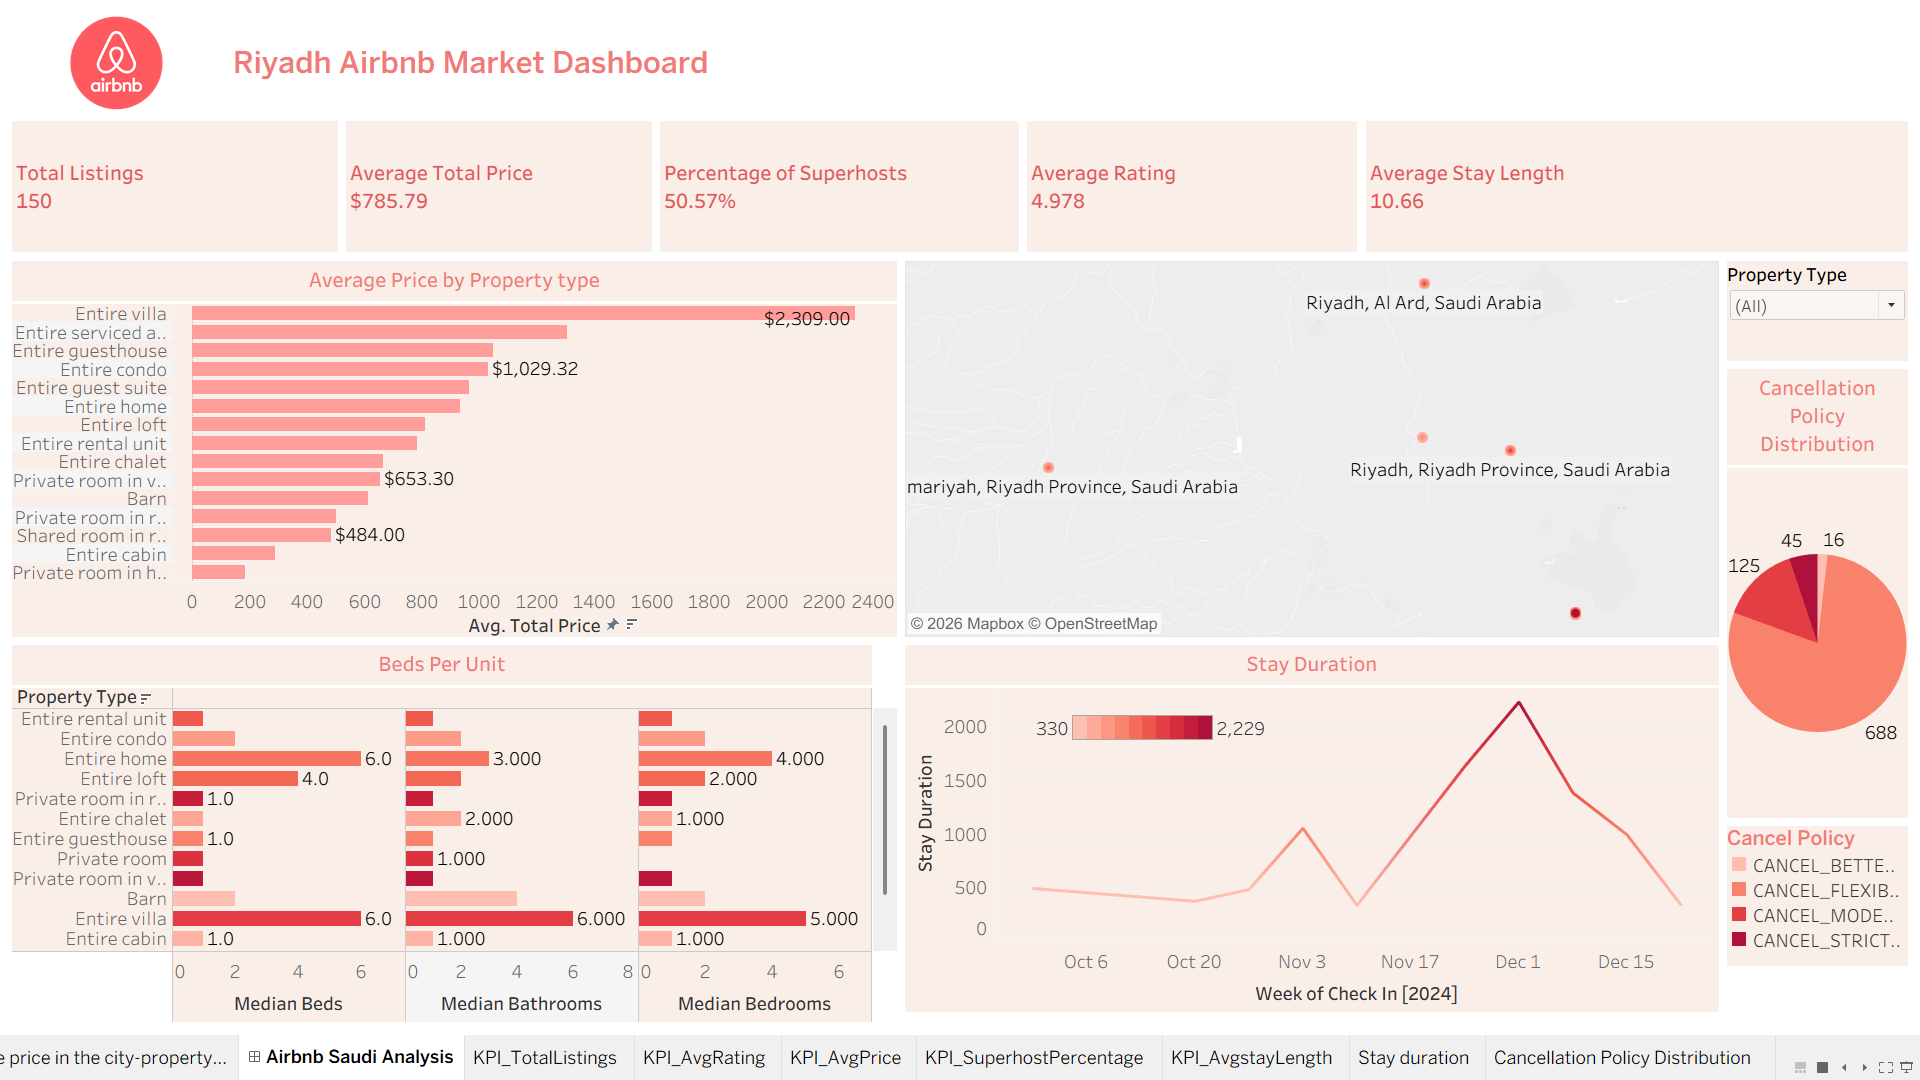

The dashboard page shown, as its layout file describes it:
{"tool":"tableau","page":{"name":"Airbnb Saudi Analysis","canvas":[1000,1000],"units":"permille","ordinal":0},"visuals":[{"type":"image","param":"Image/airbnb-logo.png","box":[6.5,11.2,104.6,105]},{"type":"text","box":[111.1,11.2,882.4,105]},{"type":"worksheet","title":"KPI_TotalListings","mark":"Automatic","box":[6.5,116.2,173,133.6]},{"type":"worksheet","title":"KPI_AvgPrice","mark":"Automatic","box":[179.5,116.2,162.9,133.6]},{"type":"worksheet","title":"KPI_SuperhostPercentage","mark":"Automatic","box":[342.4,116.2,190.5,133.6]},{"type":"worksheet","title":"KPI_AvgRating","mark":"Automatic","box":[532.9,116.2,175.4,133.6]},{"type":"worksheet","title":"KPI_AvgstayLength","mark":"Automatic","box":[708.3,116.2,285.2,133.6]},{"type":"worksheet","title":"Bar Chart - Average Price by Property","mark":"Automatic","rows":["property_type"],"cols":["total_price"],"box":[6.5,249.8,434,368.3]},{"type":"worksheet","title":"Averge price in the city-property type","mark":"Heatmap","rows":["lat"],"cols":["lng"],"box":[440.5,249.8,399.2,368.3]},{"type":"filter","title":"Averge price in the city-property type","param":"[federated.1uiiudu0czdg151dpx6b20elwmhg].[none:property_type:nk]","box":[839.7,249.8,153.8,150.8]},{"type":"worksheet","title":"Cancellation Policy Distribution","mark":"Pie","box":[839.7,400.7,153.8,588.2]},{"type":"worksheet","title":"Beds Per Unit","mark":"Automatic","rows":["property_type"],"cols":["beds","bathrooms","bedrooms"],"box":[6.5,618.2,433.9,370.7]},{"type":"worksheet","title":"Stay duration","mark":"Automatic","rows":["Calculation_622904130812964865"],"cols":["check_in"],"box":[440.4,618.2,399.3,370.7]},{"type":"legend","title":"Stay duration","param":"[federated.1uiiudu0czdg151dpx6b20elwmhg].[sum:Calculation_622904130812964865:qk]","box":[537.4,687.3,124.1,37.2]},{"type":"legend","title":"Cancellation Policy Distribution","param":"[federated.1uiiudu0czdg151dpx6b20elwmhg].[none:cancelPolicy:nk]","box":[880.9,821.3,109.1,166.2]}]}

Visuals, with their boxes on the dashboard's canvas, which has no fixed pixel size, in thousandths of its width and height (x1, y1, x2, y2). These are canvas units, not pixel positions in the 1920x1080 screenshot, which may show the page scaled, cropped or inside an application window:
image: 6:11:111:116
text: 111:11:994:116
"KPI_TotalListings" worksheet: 6:116:180:250
"KPI_AvgPrice" worksheet: 180:116:342:250
"KPI_SuperhostPercentage" worksheet: 342:116:533:250
"KPI_AvgRating" worksheet: 533:116:708:250
"KPI_AvgstayLength" worksheet: 708:116:994:250
"Bar Chart - Average Price by Property" worksheet: 6:250:440:618
"Averge price in the city-property type" worksheet (Heatmap marks): 440:250:840:618
"Averge price in the city-property type" filter: 840:250:994:401
"Cancellation Policy Distribution" worksheet (Pie marks): 840:401:994:989
"Beds Per Unit" worksheet: 6:618:440:989
"Stay duration" worksheet: 440:618:840:989
"Stay duration" legend: 537:687:662:724
"Cancellation Policy Distribution" legend: 881:821:990:988
